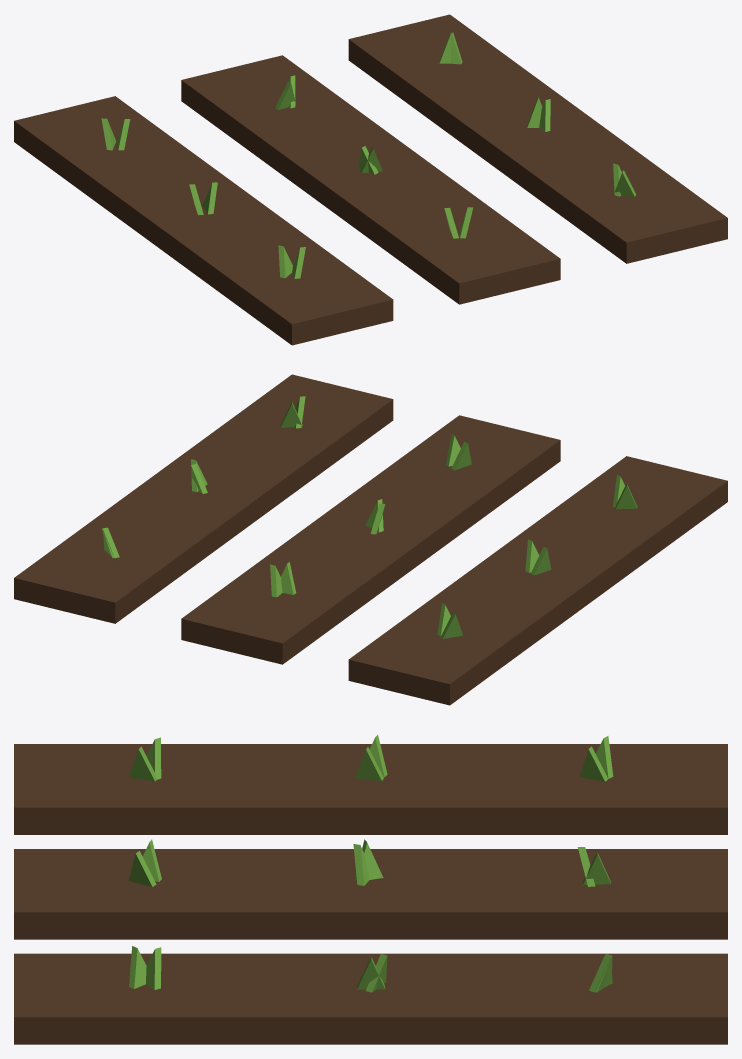
Rendered from crop_roots_1.glb.
The picture shows the model from 3 angles, top to bottom: view 1: azimuth 30°, elevation 25°; view 2: azimuth 150°, elevation 25°; view 3: azimuth 270°, elevation 25°; orthographic projection. The views are drawn at different scales.
Parts seen in each view (by area): view 1: crop_roots_1; view 2: crop_roots_1; view 3: crop_roots_1.
Part boxes in pixels (bbox=[...]): crop_roots_1: bbox=[14, 14, 727, 345]; crop_roots_1: bbox=[14, 374, 727, 705]; crop_roots_1: bbox=[14, 735, 727, 1044].
Size of the model in its own units: 1.72 by 0.18 by 1.9.
